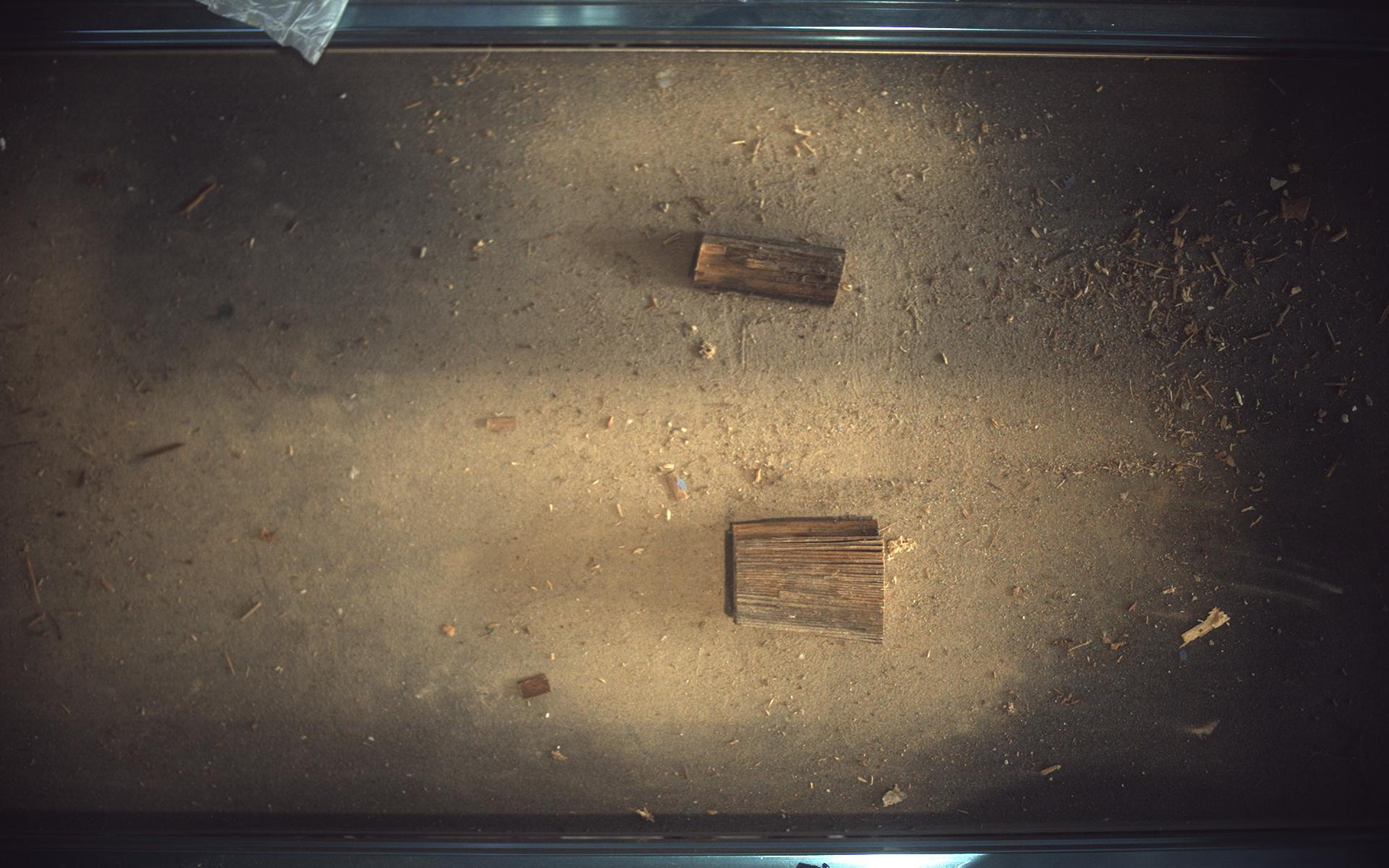wood: (729, 517, 888, 643), (694, 234, 846, 305)
